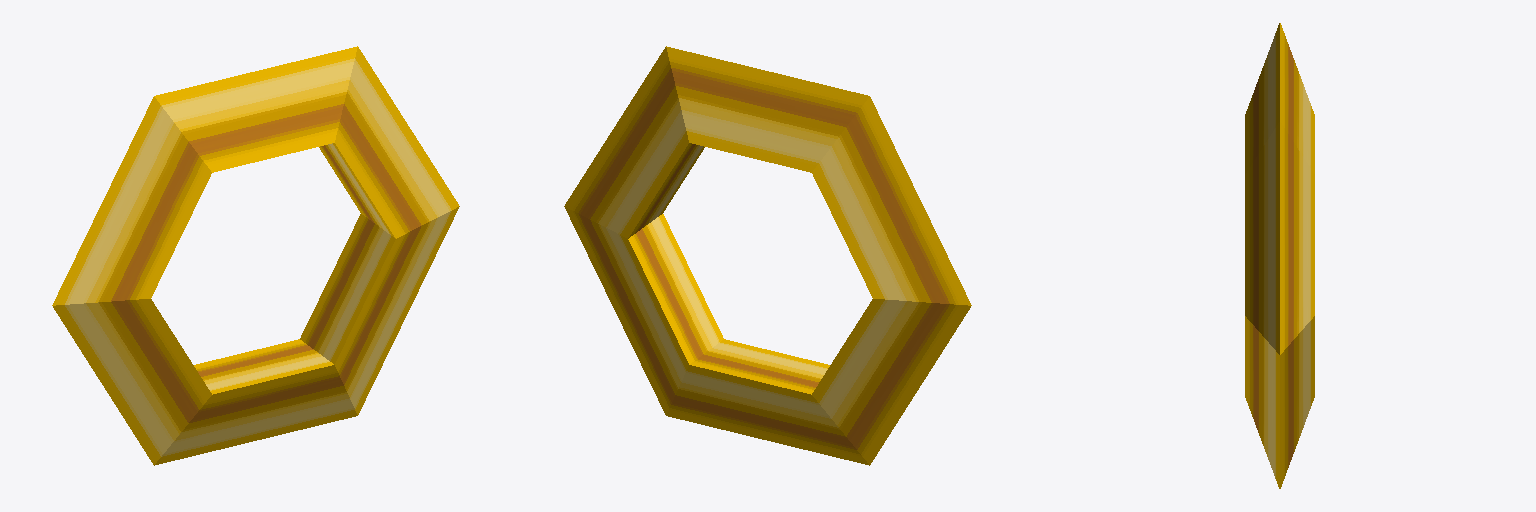
3 views of the same model, side by side, from view 1: azimuth 30°, elevation 25°; view 2: azimuth 150°, elevation 25°; view 3: azimuth 270°, elevation 25° (orthographic).
Visible parts, largest first — view 1: Torus; view 2: Torus; view 3: Torus.
Boxes of the visible parts, x1,y1,x2,y2 form: Torus: [52, 46, 459, 465]; Torus: [564, 46, 971, 465]; Torus: [1245, 23, 1314, 488].
Bounding box in the file's own units: 0.5954 × 0.5156 × 0.0884.
1 materials, 1 textured.